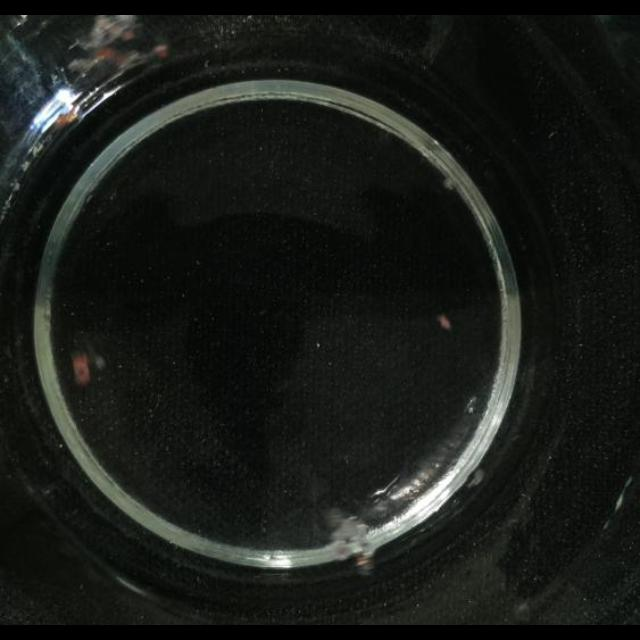Fibre: (436, 173, 466, 201)
Fragment: (65, 21, 177, 77), (322, 504, 386, 578), (64, 346, 104, 389), (48, 90, 88, 130)
microbeads: (431, 312, 454, 336)
